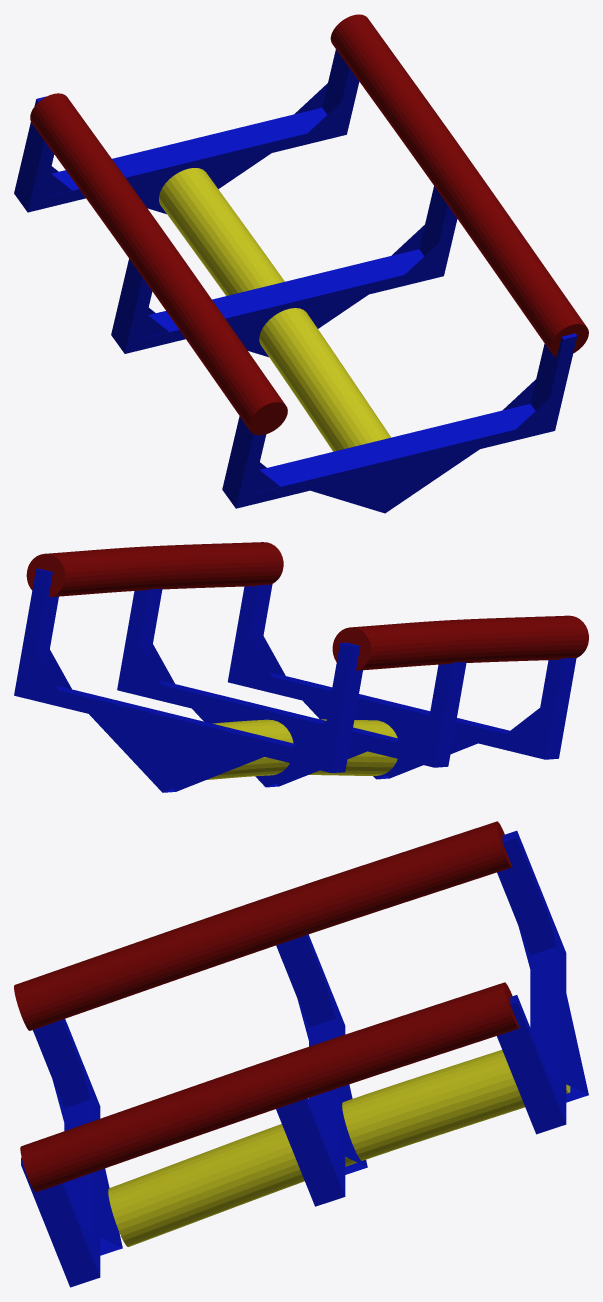
File: oneTrackPieceUpStraight.fbx
3 views of the same model, one above another, from view 1: azimuth 30°, elevation 25°; view 2: azimuth 150°, elevation 25°; view 3: azimuth 270°, elevation 25° (orthographic). The views are drawn at different scales.
Parts seen in each view (by area): view 1: right_circle, left_circle, bottum_circle, Cube, Cube_4, Cube_3, Cap_2_4, Cube_2_3, Cube_1, Cube_1_4, Cube_2, Cube_2_5 (+7 smaller); view 2: right_circle, left_circle, Cap_1_13, Cube_4, Cube_3, Cube, bottum_circle, Cube_1_4, Cube_2_5, Cube_1_3, Cube_1, Cube_2_4 (+15 smaller); view 3: right_circle, left_circle, bottum_circle, Cube_4, Cube_2_5, Cube_1_4, Cube_2, Cube_2_2, Cube_1, Cube_1_2, Cube, Cube_3 (+2 smaller).
Boxes of the visible parts, bbox=[...] form: right_circle: bbox=[330, 14, 586, 351]; left_circle: bbox=[30, 93, 285, 429]; bottum_circle: bbox=[159, 168, 391, 451]; Cube: bbox=[236, 404, 557, 508]; Cube_4: bbox=[28, 108, 348, 212]; Cube_3: bbox=[142, 249, 424, 338]; Cap_2_4: bbox=[308, 447, 482, 513]; Cube_2_3: bbox=[125, 265, 446, 353]; Cube_1: bbox=[222, 416, 266, 508]; Cube_1_4: bbox=[14, 96, 54, 212]; Cube_2: bbox=[530, 333, 577, 430]; Cube_2_5: bbox=[322, 49, 359, 137]; right_circle: bbox=[44, 542, 283, 597]; left_circle: bbox=[352, 615, 588, 670]; Cap_1_13: bbox=[86, 711, 259, 792]; Cube_4: bbox=[14, 680, 344, 772]; Cube_3: bbox=[118, 678, 447, 767]; Cube: bbox=[228, 670, 557, 759]; bottum_circle: bbox=[207, 719, 397, 779]; Cube_1_4: bbox=[318, 642, 362, 772]; Cube_2_5: bbox=[14, 568, 58, 698]; Cube_1_3: bbox=[427, 662, 466, 767]; Cube_1: bbox=[538, 657, 576, 759]; Cube_2_4: bbox=[117, 588, 162, 693]; right_circle: bbox=[20, 982, 518, 1192]; left_circle: bbox=[14, 821, 511, 1030]; bottum_circle: bbox=[108, 1050, 568, 1246]; Cube_4: bbox=[530, 939, 566, 1125]; Cube_2_5: bbox=[497, 995, 565, 1134]; Cube_1_4: bbox=[497, 830, 560, 954]; Cube_2: bbox=[21, 1157, 100, 1287]; Cube_2_2: bbox=[276, 1099, 344, 1206]; Cube_1: bbox=[33, 1019, 94, 1108]; Cube_1_2: bbox=[276, 935, 335, 1027]; Cube: bbox=[64, 1092, 100, 1287]; Cube_3: bbox=[309, 1011, 345, 1196].
Size of the model in its own units: 371 by 335 by 490.
